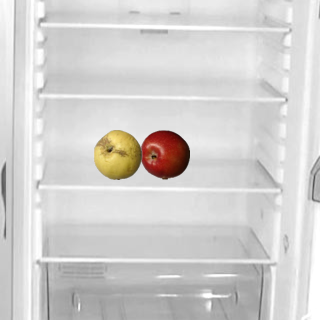Apple Braeburn: (139, 129, 189, 179)
Apple Golden 1: (92, 129, 142, 179)
